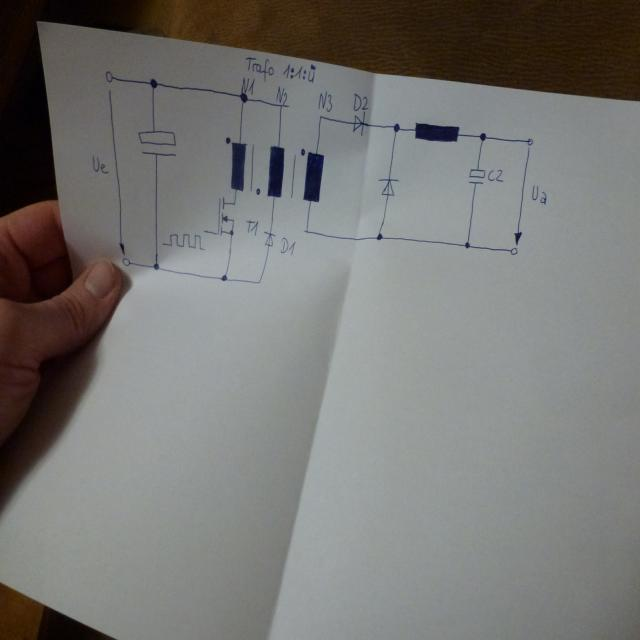capacitor: (136, 125, 178, 158), (468, 166, 485, 185)
diode: (378, 174, 398, 199), (350, 114, 366, 136), (262, 230, 276, 248)
inductor: (413, 119, 461, 143)
junction: (148, 76, 159, 90), (238, 90, 248, 104), (391, 120, 401, 133), (478, 130, 488, 142), (152, 260, 160, 271), (463, 240, 471, 250), (375, 231, 383, 241), (220, 272, 228, 282), (303, 226, 309, 235), (317, 113, 323, 121), (278, 103, 284, 110), (257, 278, 262, 284)
terminal: (104, 68, 115, 84), (120, 256, 130, 268), (509, 246, 519, 256), (526, 136, 533, 146), (201, 227, 208, 236)
text: (244, 56, 316, 83), (90, 154, 110, 175), (530, 183, 549, 205), (274, 84, 290, 108), (316, 90, 333, 112), (352, 92, 369, 113), (279, 237, 296, 255), (486, 168, 504, 182), (246, 220, 260, 237), (241, 76, 253, 94)
transformer: (223, 135, 325, 205)
transistor: (215, 196, 236, 236)
